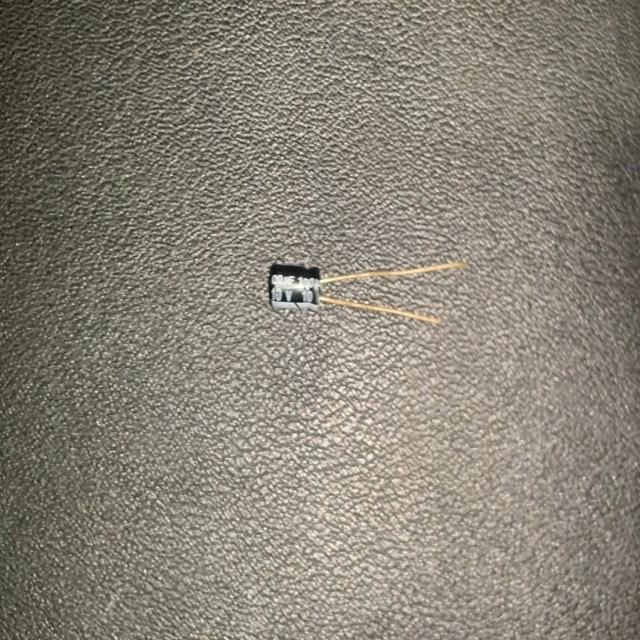capacitor: (264, 249, 470, 321)
